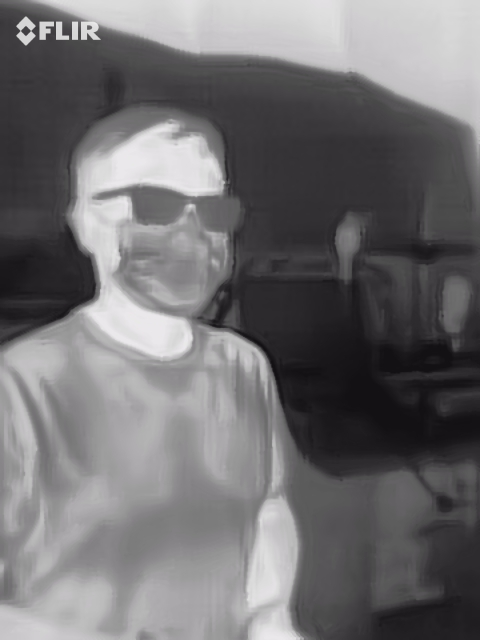head: (64, 102, 243, 321)
